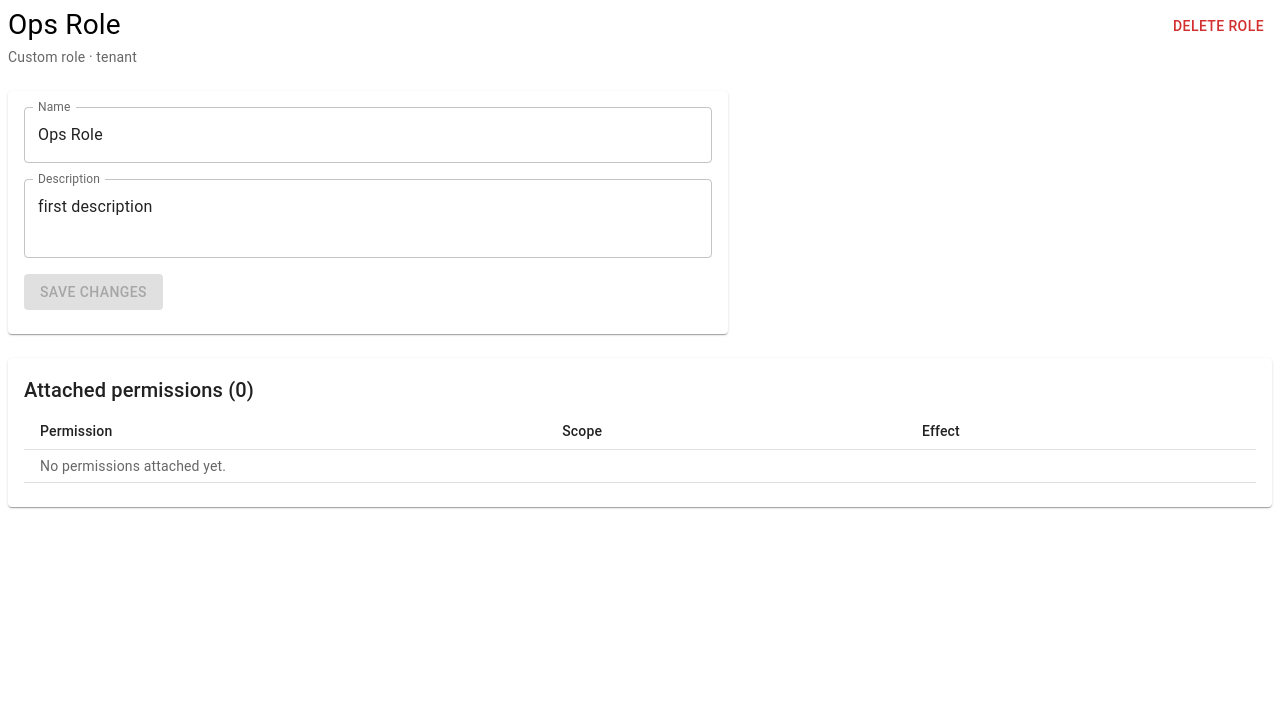
Scenario: RoleEditPage › keeps save disabled until something actually changes
Check: the button with test id "save-role" is disabled, box [24,274,163,310]
Type "!" into the field with test id "role-name" at (368, 135), box [24,107,712,163]
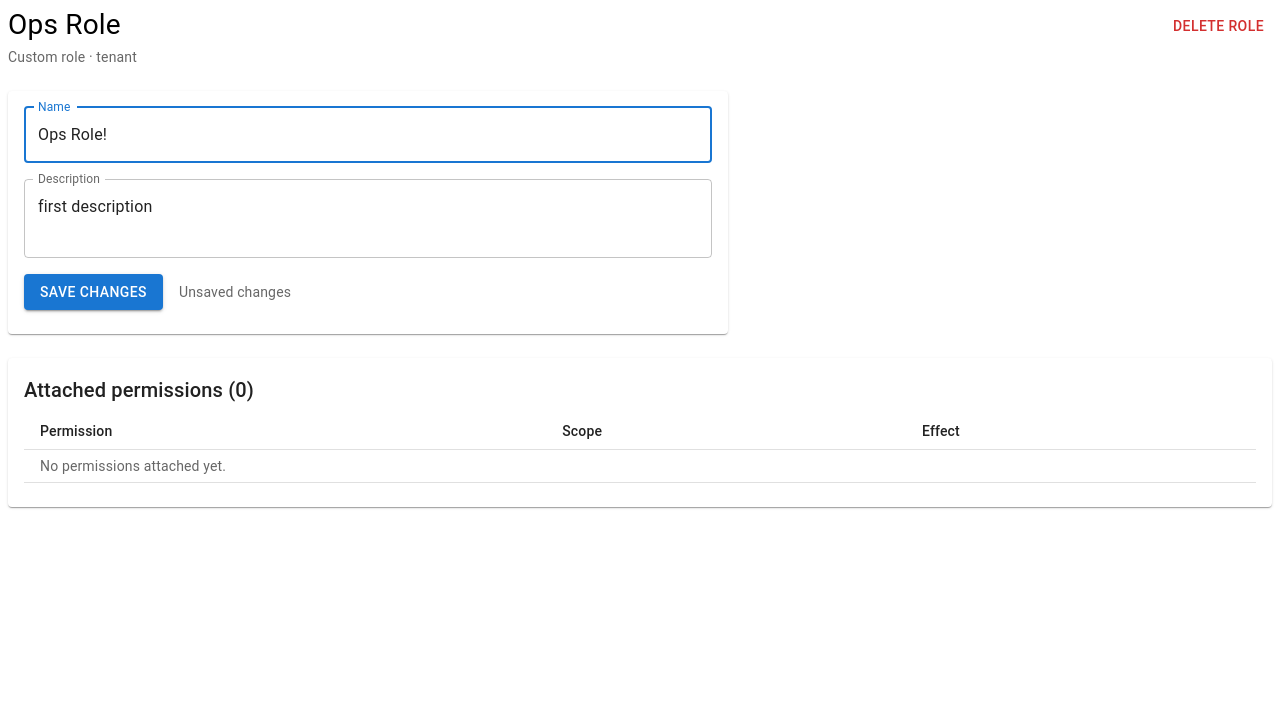
Check: the button with test id "save-role" is enabled, box [24,274,163,310]
